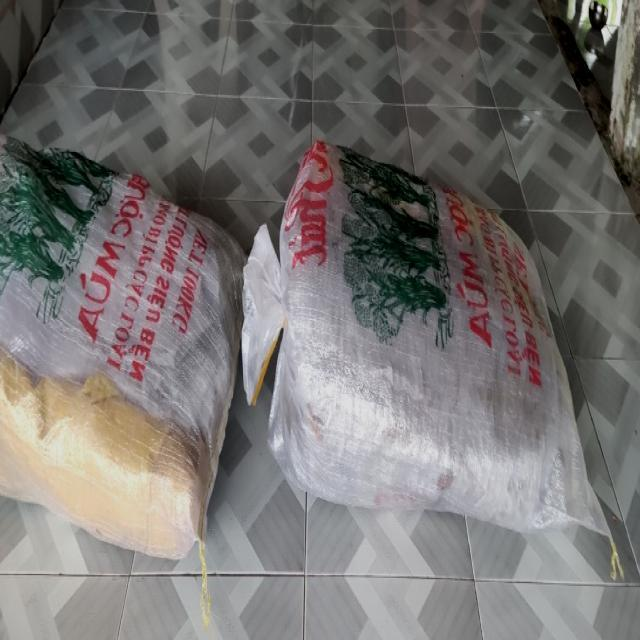gunny_bag: (242, 138, 610, 536), (0, 134, 244, 557)
